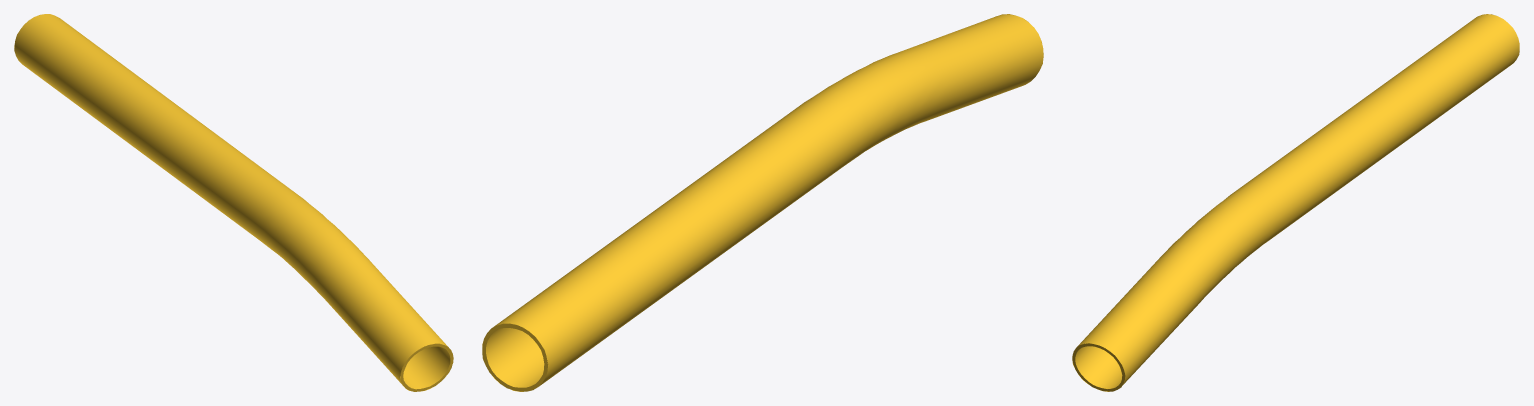
Rendered from original-4.obj.
The picture shows the model from 3 angles, left to right: view 1: azimuth 30°, elevation 25°; view 2: azimuth 150°, elevation 25°; view 3: azimuth 330°, elevation 25°; orthographic projection. The views are drawn at different scales.
Visible parts, largest first — view 1: #ID404; view 2: #ID404; view 3: #ID404.
Boxes of the visible parts, x1,y1,x2,y2 form: #ID404: (14, 14, 453, 391); #ID404: (482, 14, 1043, 391); #ID404: (1072, 14, 1519, 391).
Bounding box in the file's own units: 0.0281 × 0.0445 × 0.3421.
